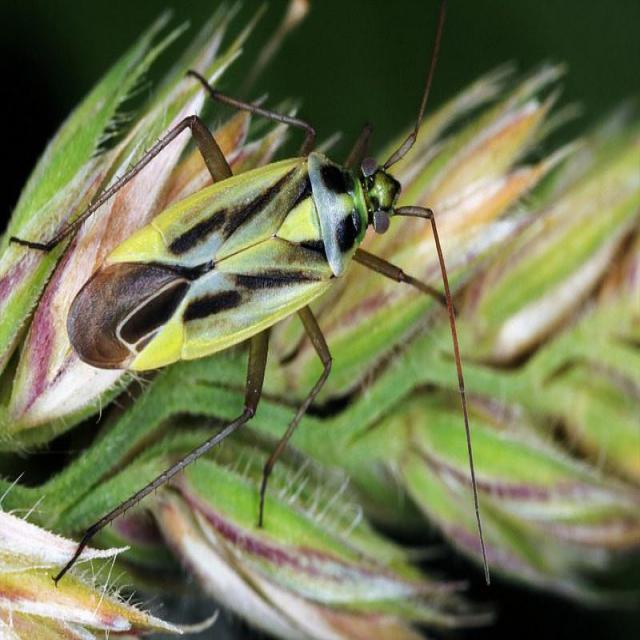Miridae-Adult-: (12, 28, 496, 588)
